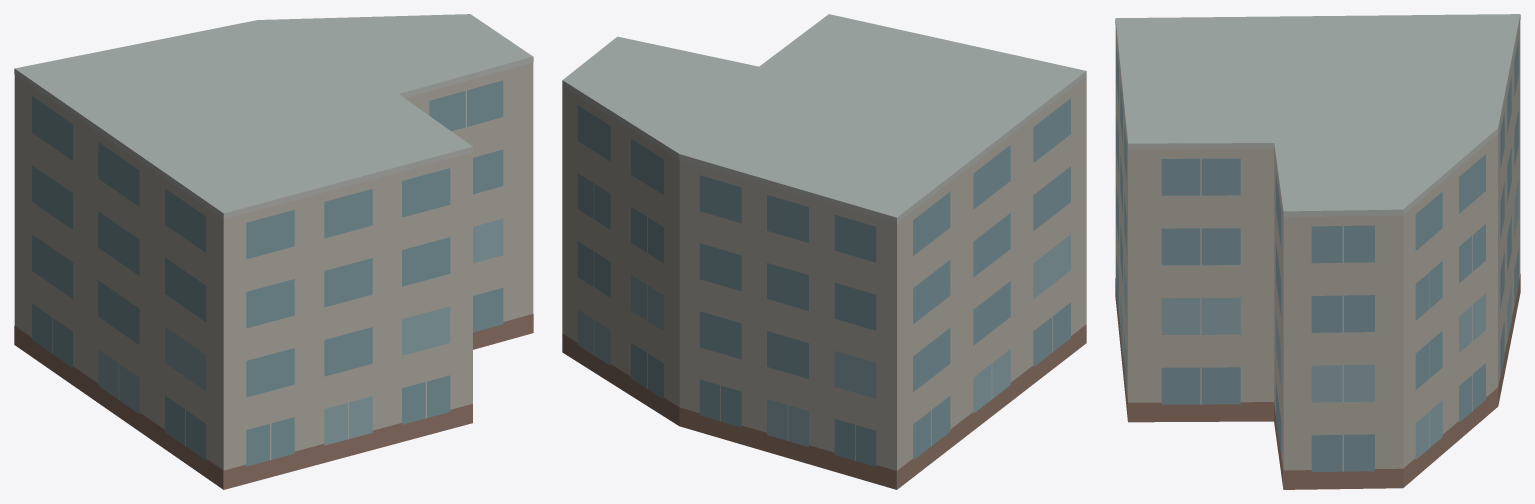
The model's file is survey-upis-32771313.glb.
3 views of the same model, side by side, from view 1: azimuth 30°, elevation 25°; view 2: azimuth 150°, elevation 25°; view 3: azimuth 270°, elevation 25° (orthographic). The views are drawn at different scales.
Visible parts, largest first — view 1: survey-upis-32771313.tmp; view 2: survey-upis-32771313.tmp; view 3: survey-upis-32771313.tmp.
Boxes of the visible parts, x1,y1,x2,y2 form: survey-upis-32771313.tmp: (14,14,533,489); survey-upis-32771313.tmp: (562,14,1086,489); survey-upis-32771313.tmp: (1115,14,1520,489).
Bounding box in the file's own units: 17.64 × 11.6 × 15.29.
